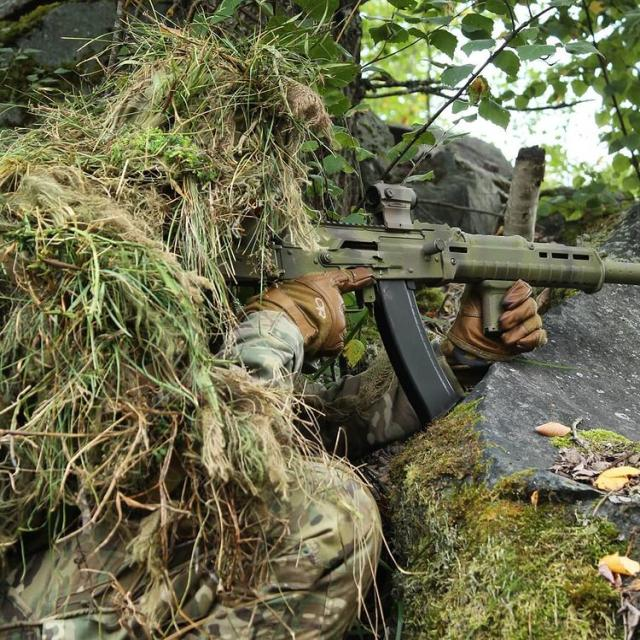Camouflage: (1, 24, 605, 611)
